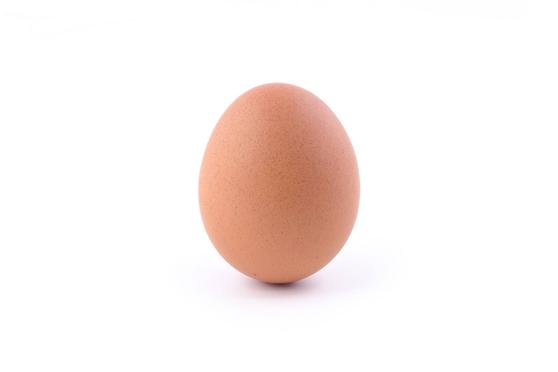chicken_fillet: (200, 84, 365, 292)
